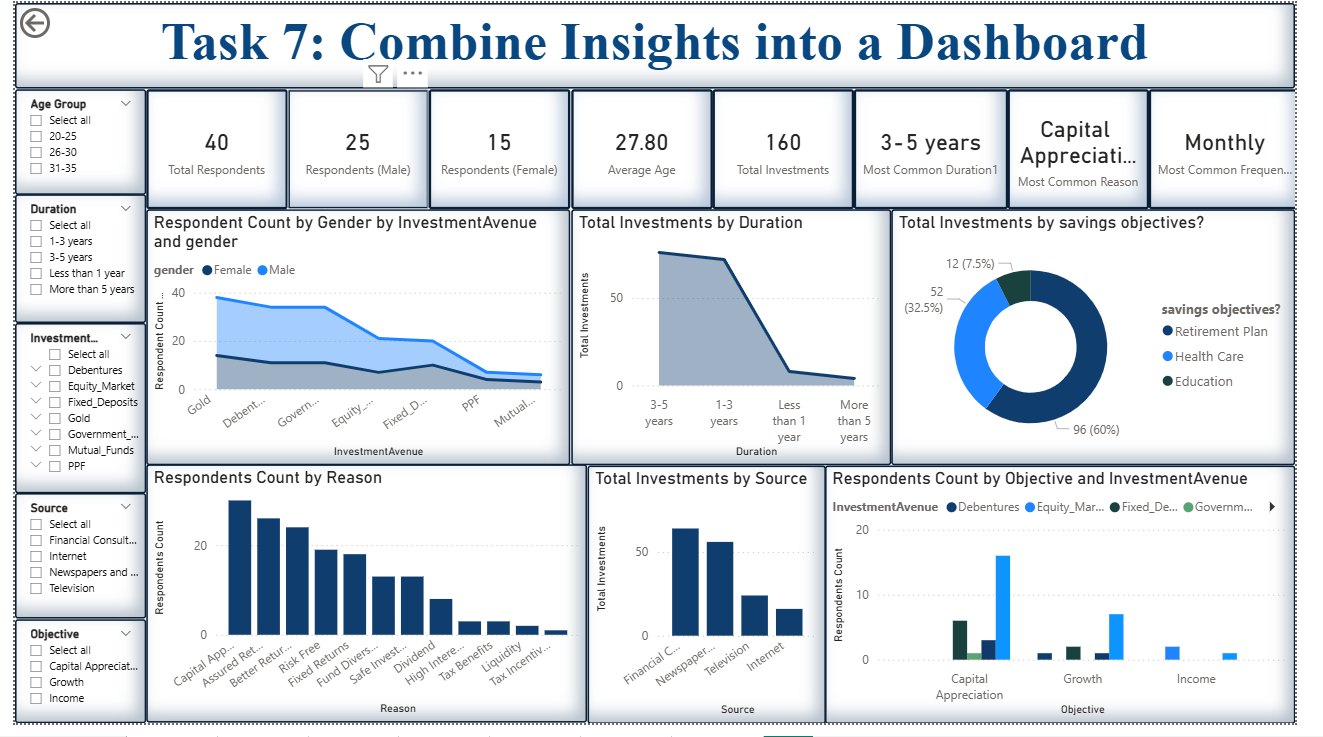

What the dashboard file says about the page in this screenshot:
{"tool":"powerbi","page":{"name":"Task 7","canvas":[1280,720],"ordinal":6},"visuals":[{"type":"textbox","box":[0,0,1280,85.7],"z":0},{"type":"actionButton","box":[0,0,100,40],"z":1000},{"type":"slicer","fields":{"Values":["Cognifyz_Dataset.Age Group"]},"box":[0,85.7,131.4,105.7],"z":2000},{"type":"slicer","fields":{"Values":["Cognifyz_Dataset.Duration"]},"box":[0,191.4,131.4,128.6],"z":3000},{"type":"slicer","fields":{"Values":["Cognifyz_Dataset.InvestmentAvenue","Cognifyz_Dataset.Source"]},"box":[0,320,131.4,170],"z":4000},{"type":"slicer","fields":{"Values":["Cognifyz_Dataset.Source"]},"box":[0,490,131.4,125.7],"z":5000},{"type":"slicer","fields":{"Values":["Cognifyz_Dataset.Objective"]},"box":[0,615.7,131.4,104.3],"z":6000},{"type":"clusteredColumnChart","fields":{"Category":["Cognifyz_Dataset.Reason"],"Y":["Cognifyz_Dataset.Respondents Count"]},"box":[131.7,461.7,440.8,258.3],"z":8000},{"type":"areaChart","fields":{"Y":["Cognifyz_Dataset.Total Investments"],"Category":["Cognifyz_Dataset.Duration"]},"box":[556,206,320,256],"z":9000},{"type":"clusteredColumnChart","fields":{"Category":["Cognifyz_Dataset.Objective"],"Series":["Cognifyz_Dataset.InvestmentAvenue"],"Y":["Cognifyz_Dataset.Respondents Count"]},"box":[810,462,470,258],"z":10000},{"type":"stackedAreaChart","fields":{"Category":["Cognifyz_Dataset.InvestmentAvenue"],"Series":["Cognifyz_Dataset.gender"],"Y":["Cognifyz_Dataset.Respondent Count by Gender"]},"box":[131.7,205.8,424.2,255.8],"z":11000},{"type":"card","fields":{"Values":["Cognifyz_Dataset.Total Respondents"]},"box":[131.4,85.7,141.4,120],"z":13000},{"type":"card","fields":{"Values":["Cognifyz_Dataset.Total Investments"]},"box":[697.1,85.7,141.4,120],"z":14000},{"type":"card","fields":{"Values":["Cognifyz_Dataset.Average Age"]},"box":[555.7,85.7,141.4,120],"z":15000},{"type":"card","fields":{"Values":["Cognifyz_Dataset.Respondents (Female)"]},"box":[414.3,85.7,141.4,120],"z":16000},{"type":"card","fields":{"Values":["Cognifyz_Dataset.Respondents (Male)"]},"box":[272.9,85.7,141.4,120],"z":17000},{"type":"card","fields":{"Values":["Cognifyz_Dataset.Most Common Duration1"]},"box":[838.6,85.7,154.3,120],"z":18000},{"type":"card","fields":{"Values":["Cognifyz_Dataset.Most Common Frequency"]},"box":[1134.3,85.7,152.9,120],"z":19000},{"type":"card","fields":{"Values":["Cognifyz_Dataset.Most Common Reason"]},"box":[992.9,85.7,141.4,120],"z":20000},{"type":"clusteredColumnChart","fields":{"Category":["Cognifyz_Dataset.Source"],"Y":["Cognifyz_Dataset.Total Investments"]},"box":[572,462,238,258],"z":20001},{"type":"donutChart","fields":{"Category":["Cognifyz_Dataset.savings objectives?"],"Y":["Cognifyz_Dataset.Total Investments"]},"box":[876,206,404,256],"z":20002}]}

Visuals, with their boxes in screenshot pixels (x1, y1, x2, y2), scaled from the page's 1280x720 canvas onto the 1323x737 screenshot:
textbox: 0,0,1322,88
actionButton: 0,0,103,41
slicer - Cognifyz_Dataset.Age Group: 0,88,136,196
slicer - Cognifyz_Dataset.Duration: 0,196,136,328
slicer - Cognifyz_Dataset.InvestmentAvenue x Cognifyz_Dataset.Source: 0,328,136,502
slicer - Cognifyz_Dataset.Source: 0,502,136,630
slicer - Cognifyz_Dataset.Objective: 0,630,136,736
clusteredColumnChart - Cognifyz_Dataset.Reason x Cognifyz_Dataset.Respondents Count: 136,473,592,736
areaChart - Cognifyz_Dataset.Total Investments x Cognifyz_Dataset.Duration: 575,211,905,473
clusteredColumnChart - Cognifyz_Dataset.Objective x Cognifyz_Dataset.InvestmentAvenue: 837,473,1322,736
stackedAreaChart - Cognifyz_Dataset.InvestmentAvenue x Cognifyz_Dataset.gender: 136,211,575,472
card - Cognifyz_Dataset.Total Respondents: 136,88,282,211
card - Cognifyz_Dataset.Total Investments: 721,88,867,211
card - Cognifyz_Dataset.Average Age: 574,88,721,211
card - Cognifyz_Dataset.Respondents (Female): 428,88,574,211
card - Cognifyz_Dataset.Respondents (Male): 282,88,428,211
card - Cognifyz_Dataset.Most Common Duration1: 867,88,1026,211
card - Cognifyz_Dataset.Most Common Frequency: 1172,88,1322,211
card - Cognifyz_Dataset.Most Common Reason: 1026,88,1172,211
clusteredColumnChart - Cognifyz_Dataset.Source x Cognifyz_Dataset.Total Investments: 591,473,837,736
donutChart - Cognifyz_Dataset.savings objectives? x Cognifyz_Dataset.Total Investments: 905,211,1322,473
